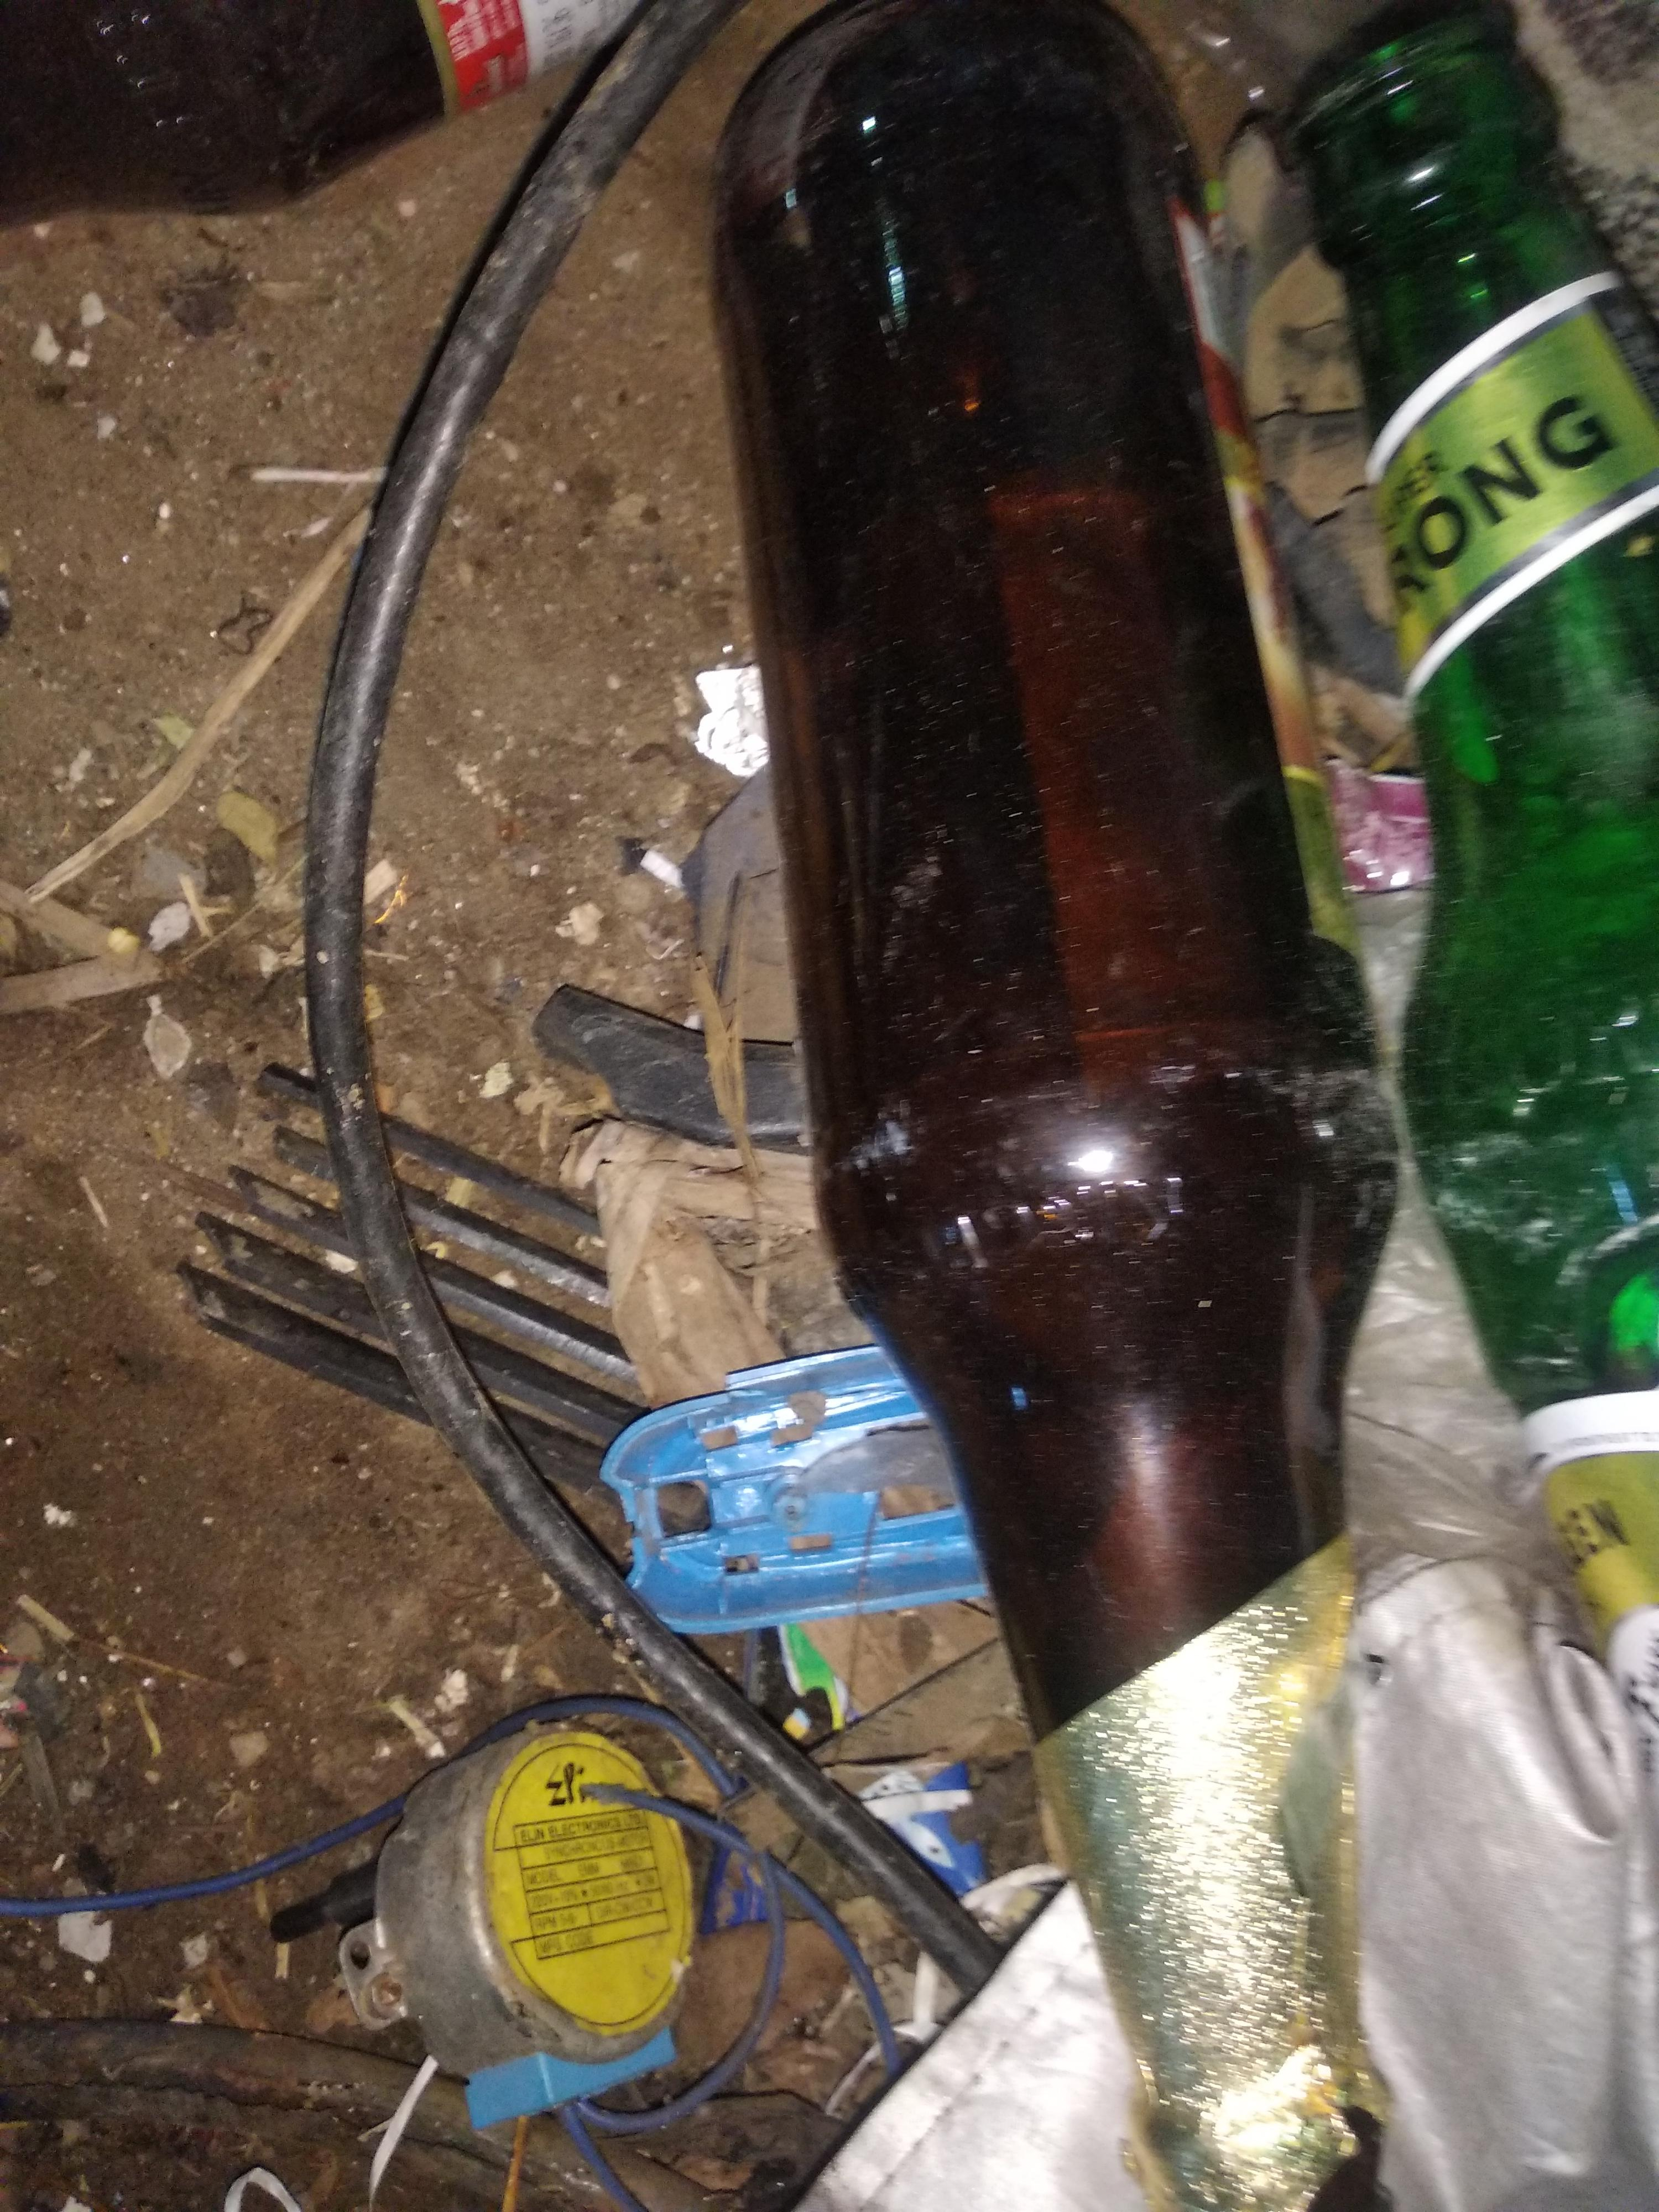trash: (181, 2, 1659, 2212)
